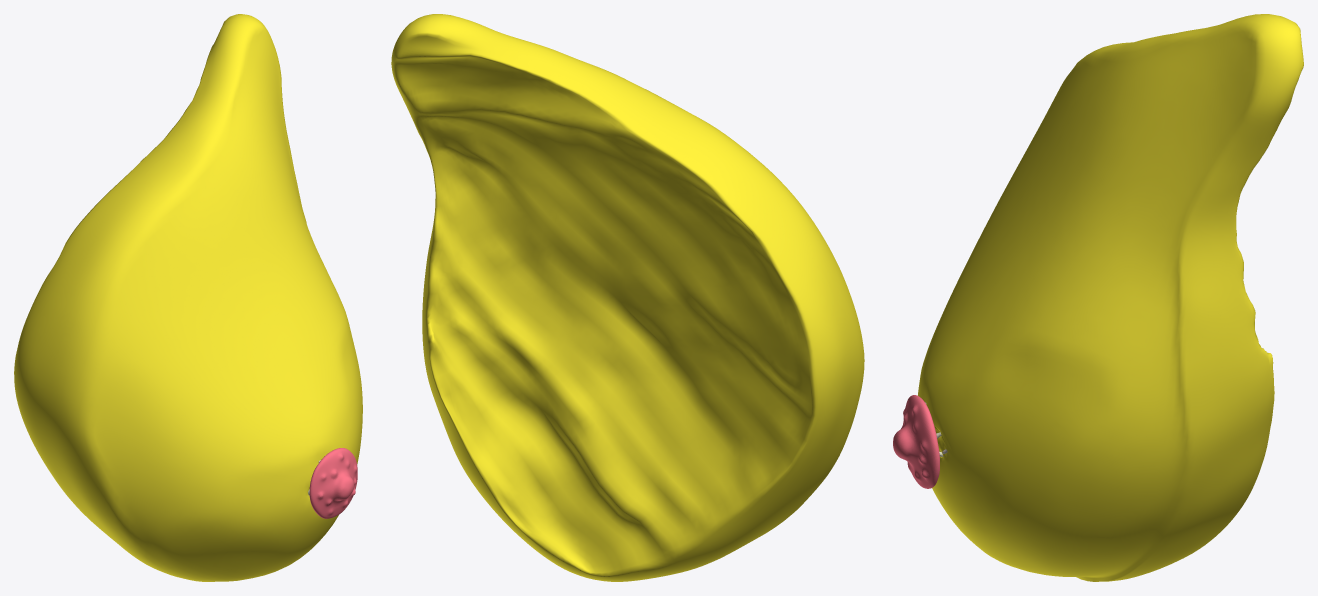
Rendered from density25.glb.
3 renders of one model, left to right at view 1: azimuth 30°, elevation 25°; view 2: azimuth 150°, elevation 25°; view 3: azimuth 270°, elevation 25°, orthographic. The views are drawn at different scales.
Visible parts, largest first — view 1: VH_F_fat_L, VH_F_areola_L; view 2: VH_F_fat_L; view 3: VH_F_fat_L, VH_F_areola_L.
Boxes of the visible parts, bbox=[...] form: VH_F_fat_L: bbox=[14, 14, 362, 581]; VH_F_areola_L: bbox=[308, 448, 357, 518]; VH_F_fat_L: bbox=[391, 14, 864, 581]; VH_F_fat_L: bbox=[918, 14, 1303, 581]; VH_F_areola_L: bbox=[893, 395, 943, 488].
Size of the model in its own units: 0.1282 by 0.1819 by 0.1119.
Materials: 2 (2 with a texture image).
